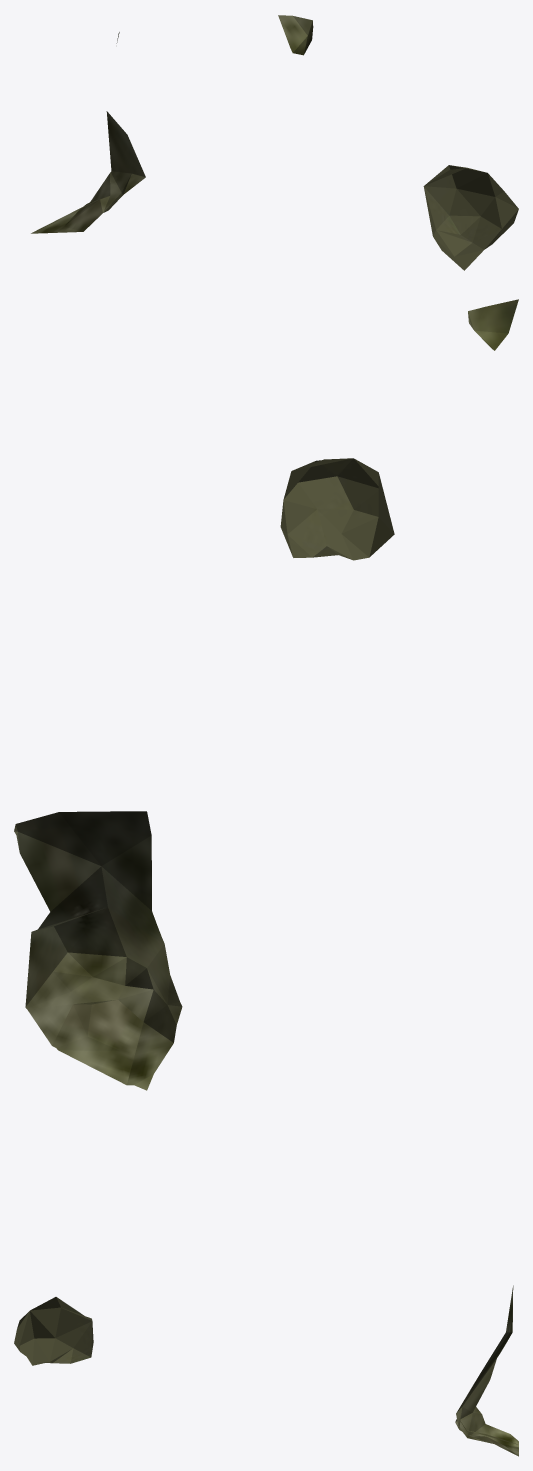
3 renders of one model, top to bottom at view 1: azimuth 30°, elevation 25°; view 2: azimuth 150°, elevation 25°; view 3: azimuth 270°, elevation 25°, orthographic. The views are drawn at different scales.
Size of the model in its own units: 0.7346 by 1.52 by 2.16.
1 material, 1 textured.
